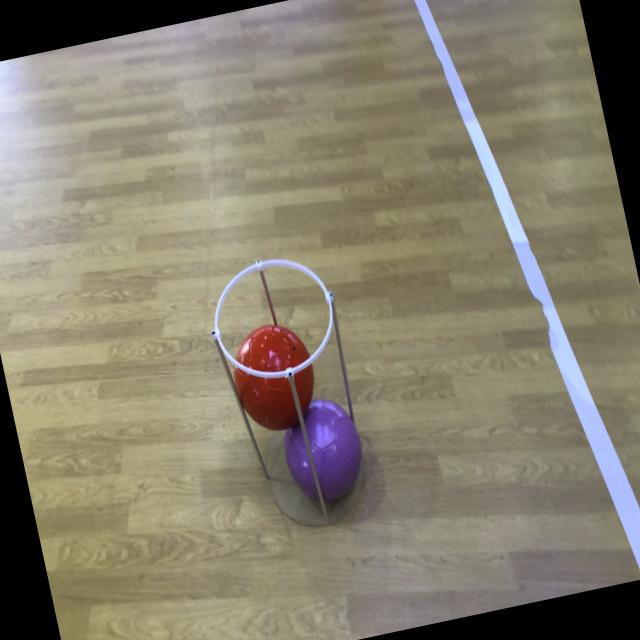purple_ball: (277, 392, 374, 511)
red_ball: (223, 322, 325, 437)
